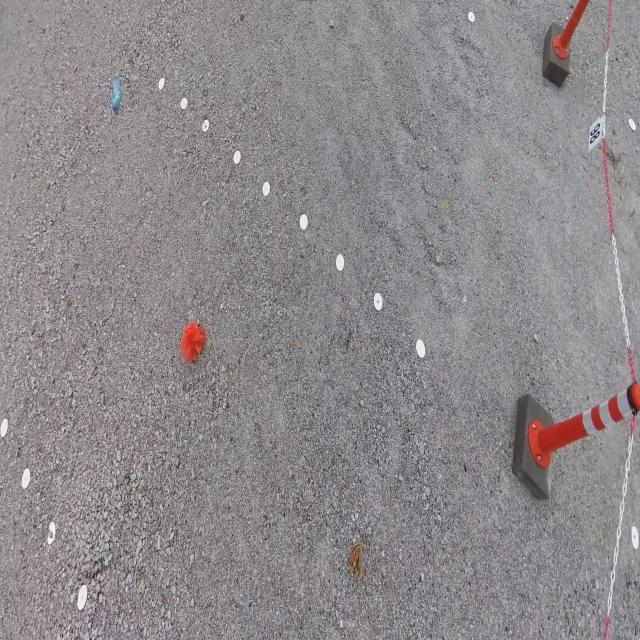rubbish: (180, 321, 208, 363), (347, 543, 362, 581), (111, 74, 121, 111), (240, 15, 243, 21)
